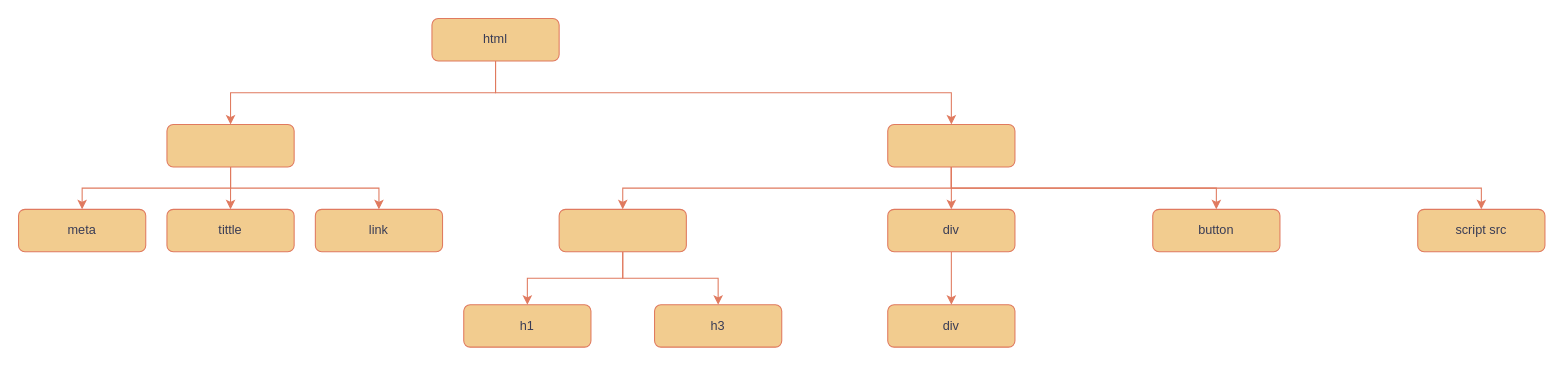
This 1563x366 diagram has some shape labels left out. The shapes that lost their labels are listed below. From the top down, each one's centre as x and y in pixels, then its label:
(x=230, y=145): head
(x=951, y=145): body
(x=622, y=230): header
